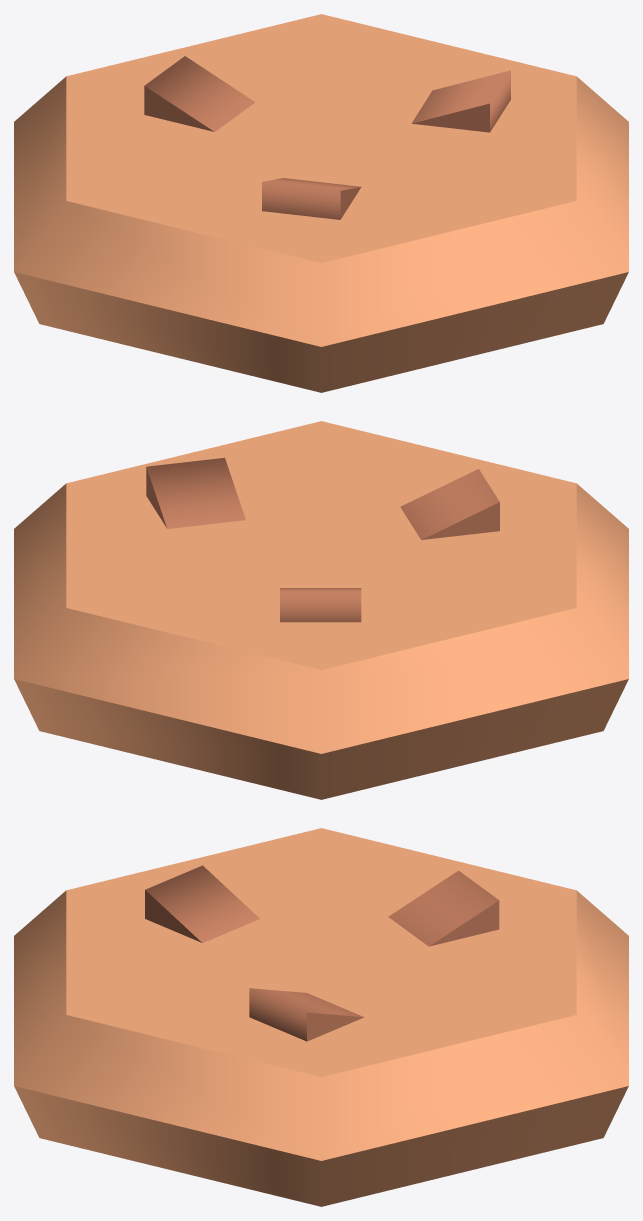
File: cookie.obj
3 views of the same model, one above another, from view 1: azimuth 30°, elevation 25°; view 2: azimuth 150°, elevation 25°; view 3: azimuth 270°, elevation 25° (orthographic).
Parts seen in each view (by area): view 1: cookie; view 2: cookie; view 3: cookie.
Part boxes in pixels (box(x1,y1,x2,y2)): cookie: box(14, 14, 628, 392); cookie: box(14, 421, 628, 799); cookie: box(14, 828, 628, 1206).
Size of the model in its own units: 0.2197 by 0.0498 by 0.1903.
